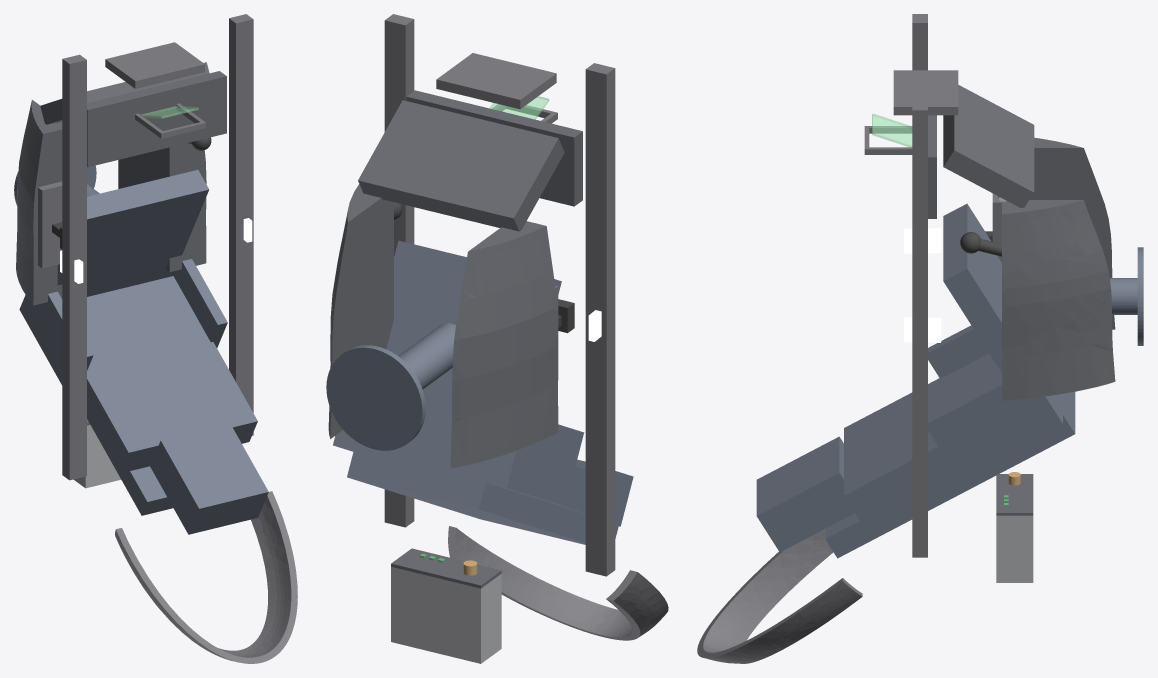
Rendered from cockpit00_fighter_canopy_open_cutaway.glb.
3 views of the same model, side by side, from view 1: azimuth 30°, elevation 25°; view 2: azimuth 150°, elevation 25°; view 3: azimuth 270°, elevation 25° (orthographic). The views are drawn at different scales.
Parts seen in each view (by area): view 1: seat_1, canopy_sill_rails, glareshield_1, canopy_frame_inner, side_console_l_1, side_console_r_1, rudder_pedals_1, throttle_quadrant_1, eq03_1_body, dash_panel_1, hud_frame_1, light_panels; view 2: seat_1, side_console_l_1, canopy_sill_rails, dash_panel_1, side_console_r_1, eq03_1_body, canopy_frame_inner, glareshield_1, rudder_pedals_1, eq03_1_front_panel, hud_combiner_1, throttle_1; view 3: seat_1, side_console_r_1, canopy_frame_inner, canopy_sill_rails, dash_panel_1, side_console_l_1, rudder_pedals_1, eq03_1_body, eq03_1_front_panel, light_panels, glareshield_1, hud_combiner_1 (+2 smaller).
Boxes of the visible parts, x1,y1,x2,y2 form: seat_1: [14, 165, 268, 534]; canopy_sill_rails: [62, 14, 253, 480]; glareshield_1: [87, 71, 226, 167]; canopy_frame_inner: [115, 491, 297, 663]; side_console_l_1: [16, 100, 62, 305]; side_console_r_1: [118, 143, 206, 272]; rudder_pedals_1: [105, 42, 204, 88]; throttle_quadrant_1: [38, 181, 62, 268]; eq03_1_body: [73, 425, 120, 488]; dash_panel_1: [40, 62, 209, 124]; hud_frame_1: [135, 103, 206, 138]; light_panels: [60, 218, 252, 283]; seat_1: [326, 240, 633, 544]; side_console_l_1: [450, 221, 558, 468]; canopy_sill_rails: [384, 14, 615, 576]; dash_panel_1: [358, 100, 564, 231]; side_console_r_1: [328, 184, 393, 438]; eq03_1_body: [391, 567, 501, 663]; canopy_frame_inner: [448, 526, 668, 640]; glareshield_1: [406, 90, 582, 206]; rudder_pedals_1: [436, 53, 556, 109]; eq03_1_front_panel: [391, 548, 501, 588]; hud_combiner_1: [489, 96, 549, 119]; throttle_1: [558, 299, 574, 333]; seat_1: [756, 203, 1143, 558]; side_console_r_1: [1002, 200, 1115, 400]; canopy_frame_inner: [697, 529, 862, 663]; canopy_sill_rails: [912, 14, 927, 557]; dash_panel_1: [943, 85, 1034, 207]; side_console_l_1: [1029, 137, 1115, 329]; rudder_pedals_1: [893, 70, 958, 115]; eq03_1_body: [996, 515, 1033, 582]; eq03_1_front_panel: [996, 474, 1033, 515]; light_panels: [904, 228, 941, 342]; glareshield_1: [928, 115, 936, 218]; hud_combiner_1: [872, 113, 912, 147].
Bounding box in the file's own units: 0.74 × 2.13 × 1.45.
